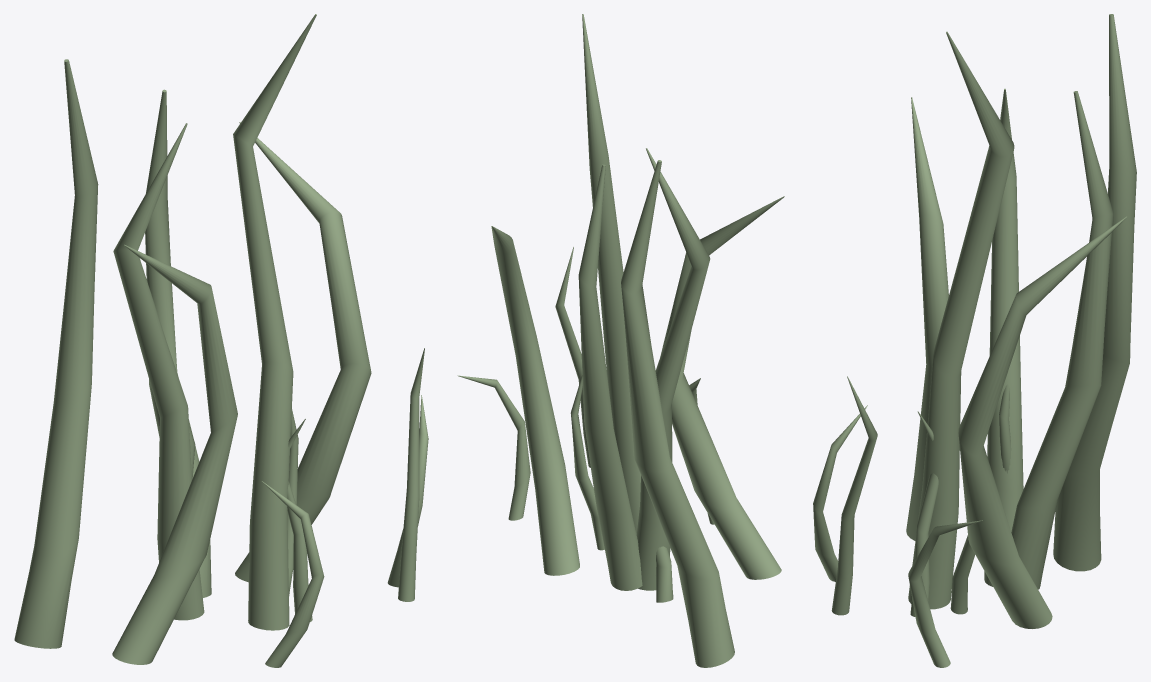
File: Grass.fbx
3 views of the same model, side by side, from view 1: azimuth 30°, elevation 25°; view 2: azimuth 150°, elevation 25°; view 3: azimuth 270°, elevation 25° (orthographic). The views are drawn at different scales.
Parts seen in each view (by area): view 1: pCylinder19; view 2: pCylinder19; view 3: pCylinder19.
Part boxes in pixels (x1,y1,x2,y2): pCylinder19: [14, 14, 428, 667]; pCylinder19: [457, 14, 784, 667]; pCylinder19: [813, 14, 1136, 667].
Size of the model in its own units: 0.6974 by 1.18 by 0.5433.
